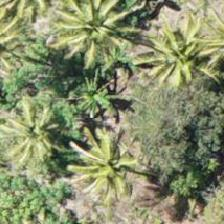coconut_tree: (130, 8, 220, 98), (62, 122, 152, 212), (0, 86, 71, 176), (46, 0, 136, 71)
